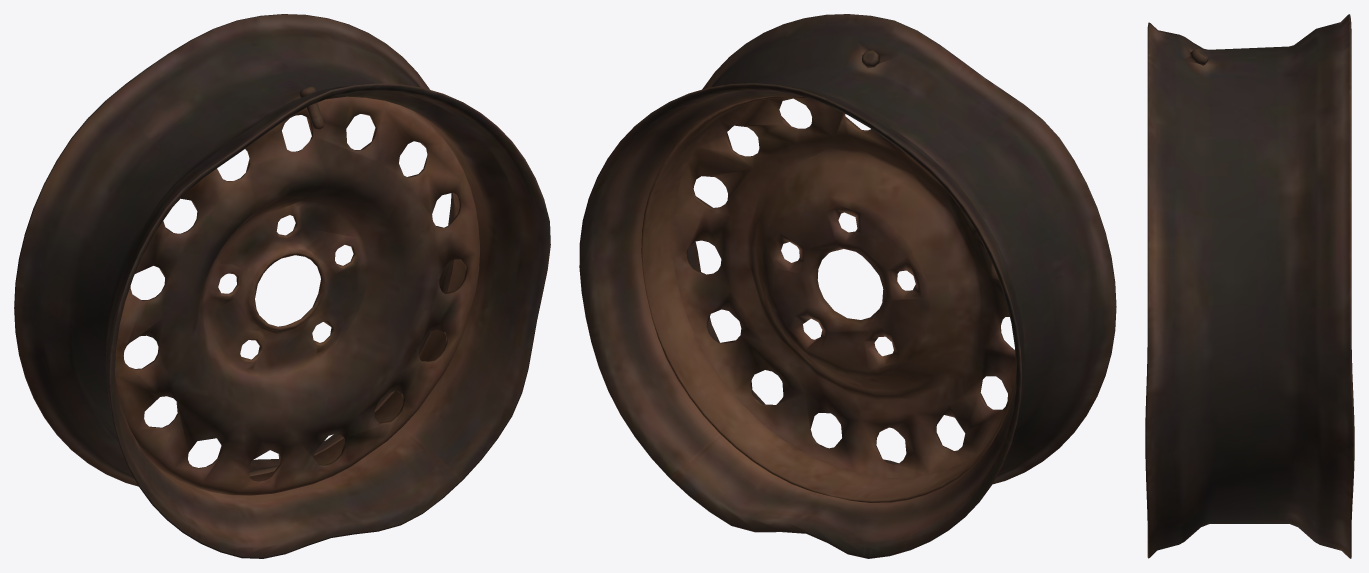
The model's file is rusted_wheel_rim_01.glb.
3 renders of one model, left to right at view 1: azimuth 30°, elevation 25°; view 2: azimuth 150°, elevation 25°; view 3: azimuth 270°, elevation 25°, orthographic. The views are drawn at different scales.
Parts seen in each view (by area): view 1: rusted_wheel_rim_01; view 2: rusted_wheel_rim_01; view 3: rusted_wheel_rim_01.
Part boxes in pixels (left/top/right/bottom): rusted_wheel_rim_01: left=14, top=14, right=550, bottom=558; rusted_wheel_rim_01: left=579, top=14, right=1116, bottom=558; rusted_wheel_rim_01: left=1145, top=14, right=1354, bottom=558.
Bounding box in the file's own units: 0.4029 × 0.3955 × 0.1541.
1 material, 1 textured.
